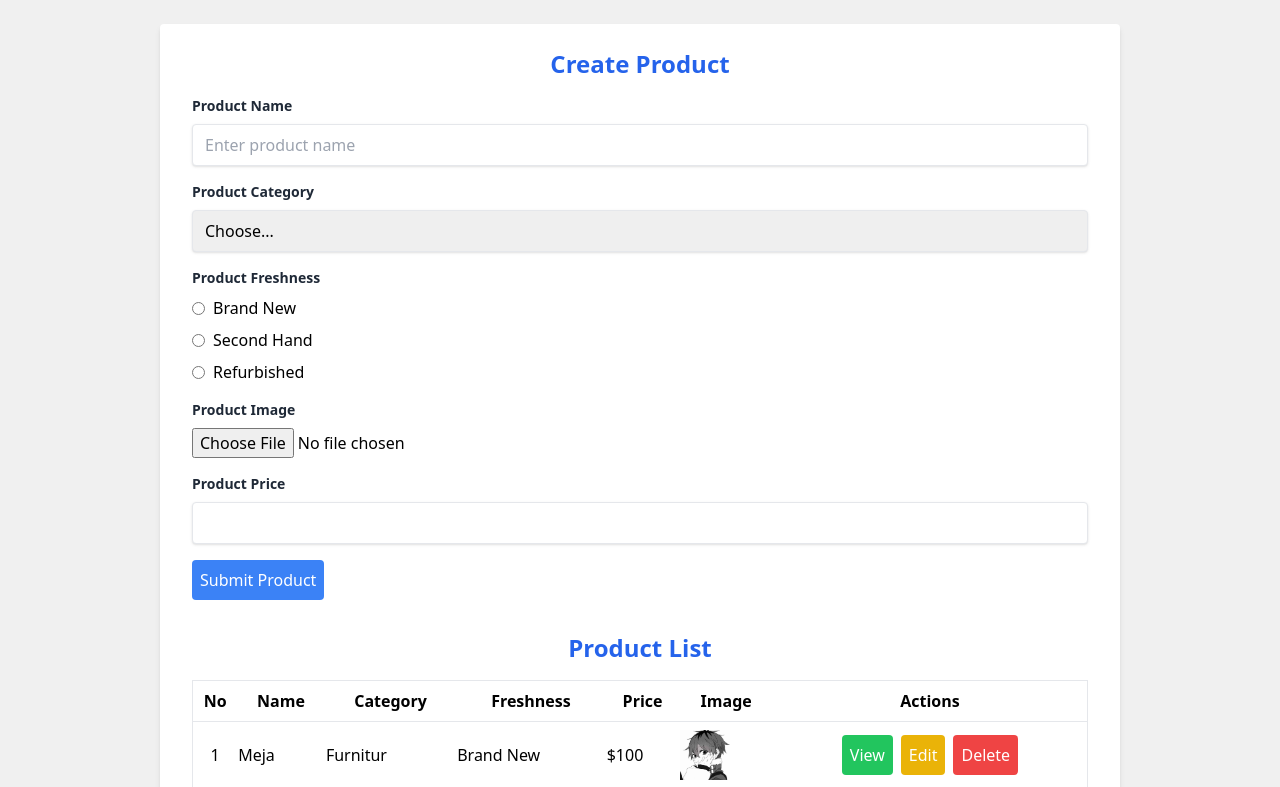
Validasi Form CreateProduct › Validasi bahwa semua field form tidak boleh kosong
Click the button "Submit Product": (258, 580) [192, 560, 324, 600]
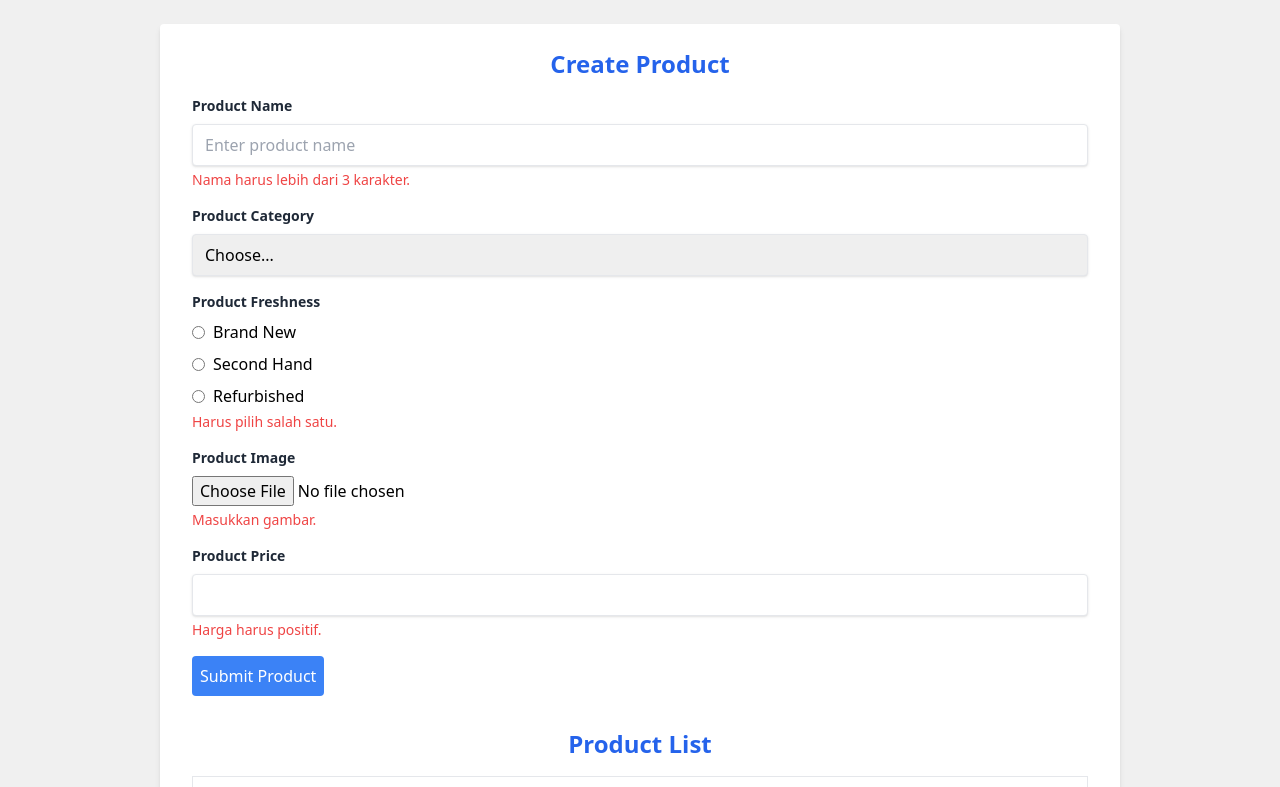
expect the text "Nama harus lebih dari 3 karakter." is shown: met, box [192, 170, 410, 189]
expect the text "Harus pilih salah satu." is shown: met, box [192, 412, 337, 431]
expect the text "Harga harus positif." is shown: met, box [192, 620, 322, 639]
